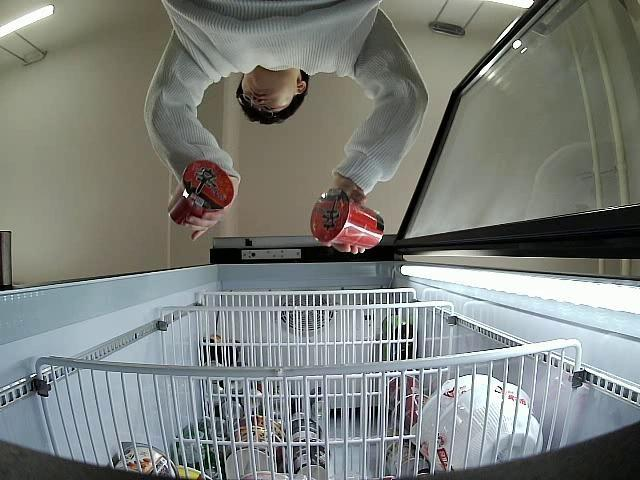02_shinRamen_S: (310, 188, 385, 251), (170, 162, 233, 228)
